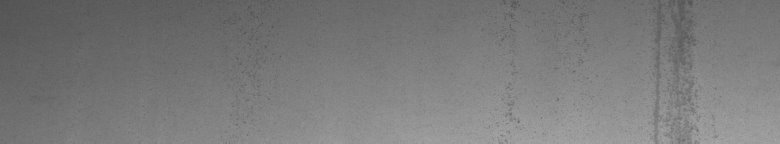ib: (496, 4, 584, 123)
